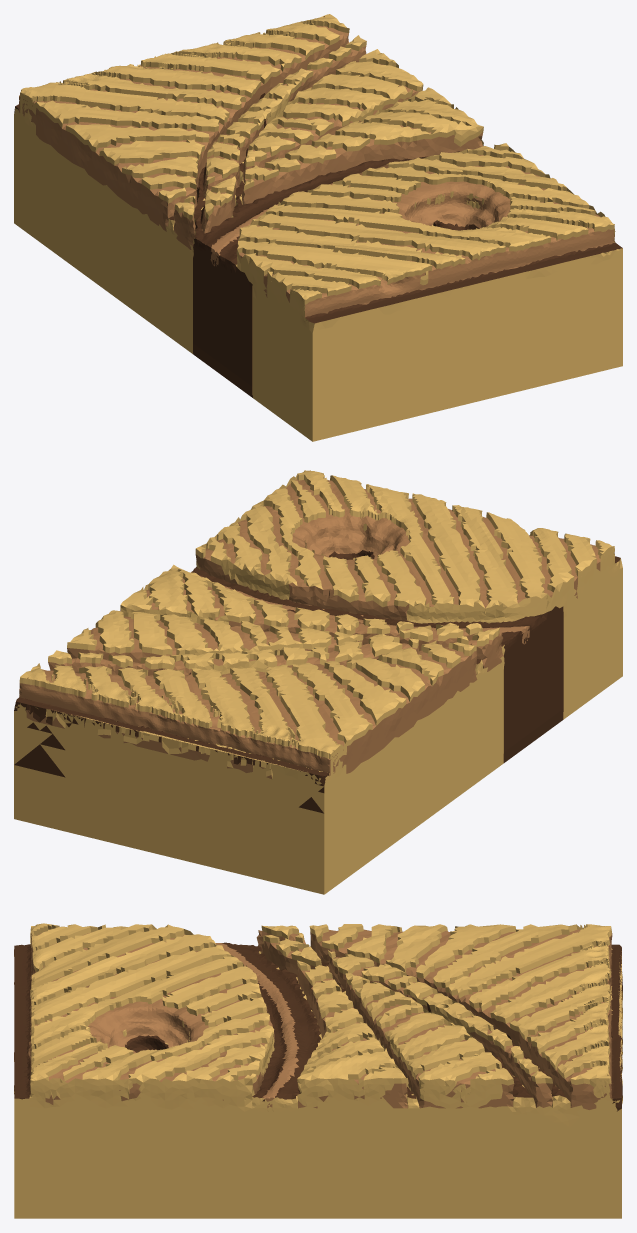
File: Map 1-2.fbx
3 views of the same model, one above another, from view 1: azimuth 30°, elevation 25°; view 2: azimuth 150°, elevation 25°; view 3: azimuth 270°, elevation 25° (orthographic).
Parts seen in each view (by area): view 1: Cube; view 2: Cube; view 3: Cube.
Part boxes in pixels (x1=…): Cube: x1=14, y1=14, x2=622, y2=441; Cube: x1=14, y1=470, x2=622, y2=894; Cube: x1=14, y1=923, x2=622, y2=1218.
Bounding box in the file's own units: 603 × 263 × 1002.
